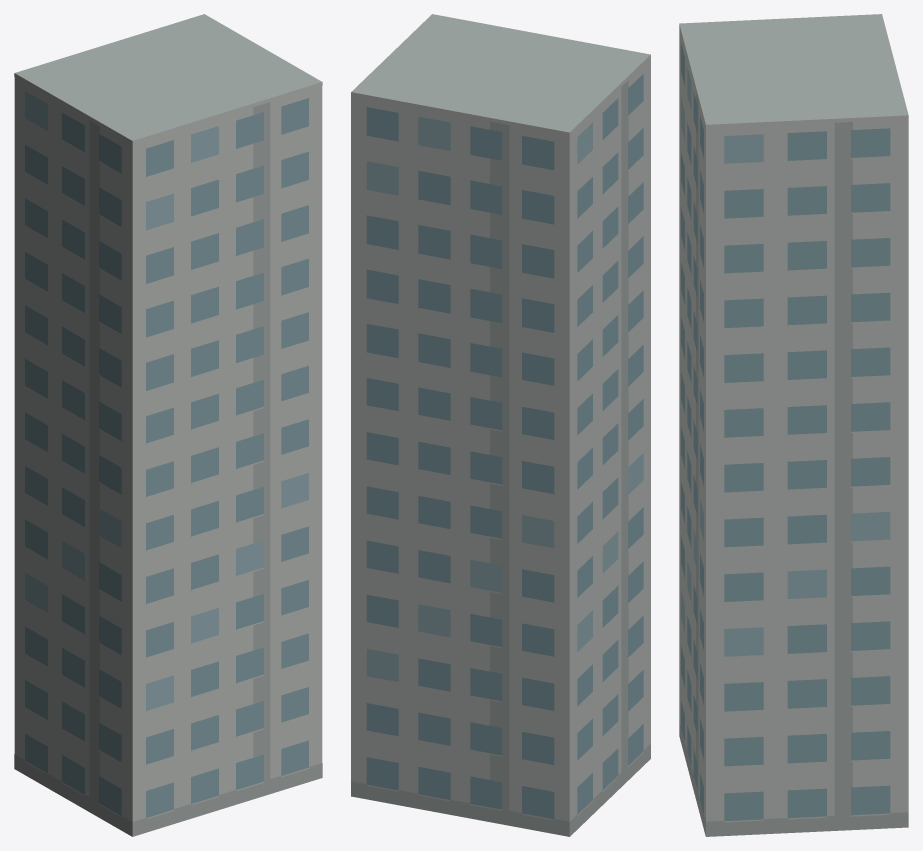
Rendered from residential-dc68a109-d87f-4494-9157-bb11c912a4d9.glb.
3 renders of one model, left to right at view 1: azimuth 30°, elevation 25°; view 2: azimuth 150°, elevation 25°; view 3: azimuth 270°, elevation 25°, orthographic. The views are drawn at different scales.
Parts seen in each view (by area): view 1: residential-dc68a109-d87f-4494-9157-bb11c912a4d9.tmp; view 2: residential-dc68a109-d87f-4494-9157-bb11c912a4d9.tmp; view 3: residential-dc68a109-d87f-4494-9157-bb11c912a4d9.tmp.
Part boxes in pixels (box(x1,y1,x2,y2)): residential-dc68a109-d87f-4494-9157-bb11c912a4d9.tmp: box(14, 14, 322, 836); residential-dc68a109-d87f-4494-9157-bb11c912a4d9.tmp: box(351, 14, 650, 836); residential-dc68a109-d87f-4494-9157-bb11c912a4d9.tmp: box(679, 14, 908, 836).
Bounding box in the file's own units: 14.69 × 44 × 12.86.
